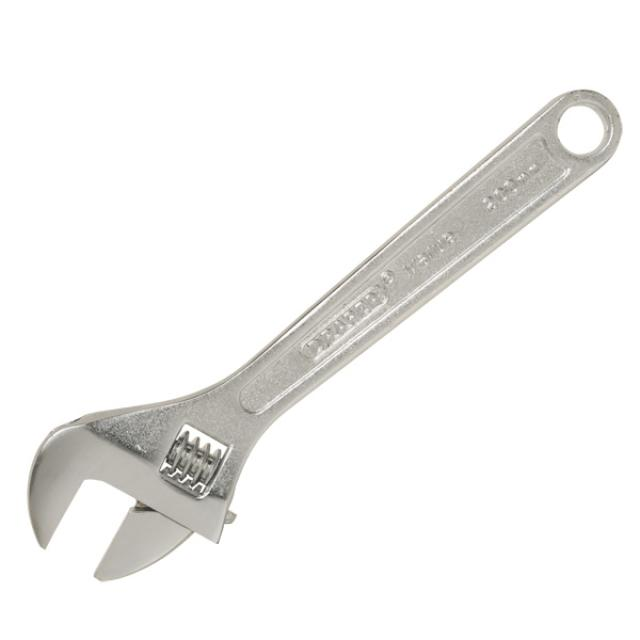wrench: (19, 31, 639, 640)
